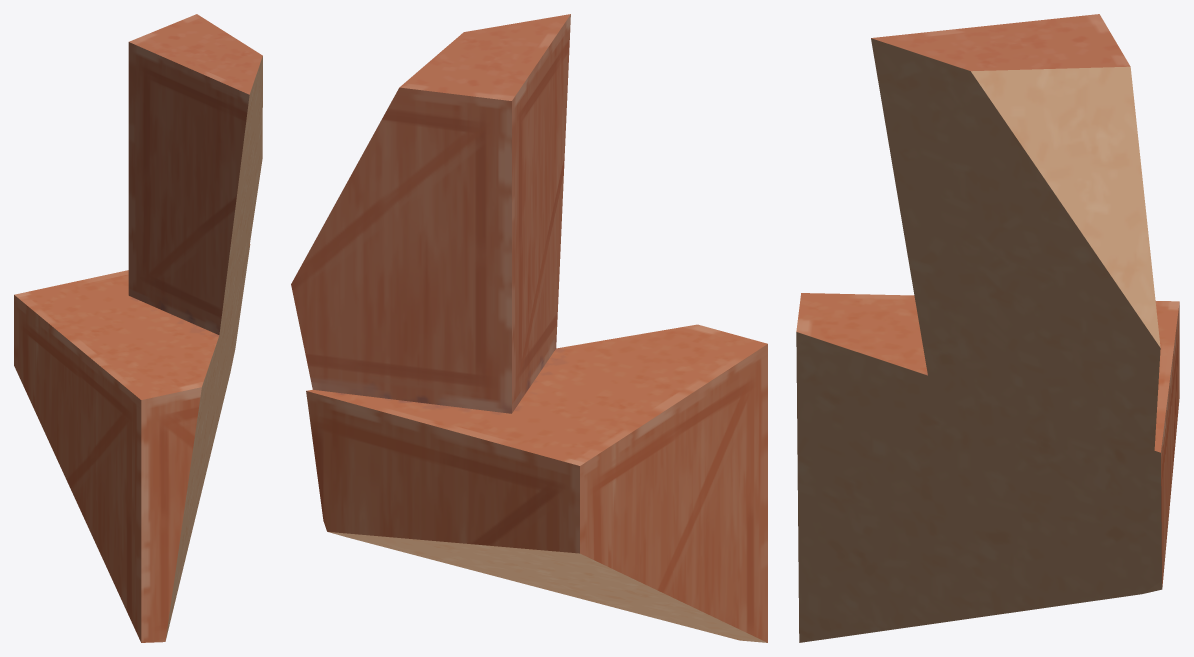
Rendered from stack_crates_s07.fbx.
The picture shows the model from 3 angles, left to right: view 1: azimuth 30°, elevation 25°; view 2: azimuth 150°, elevation 25°; view 3: azimuth 270°, elevation 25°; orthographic projection. The views are drawn at different scales.
Parts seen in each view (by area): view 1: stack_crates_s07; view 2: stack_crates_s07; view 3: stack_crates_s07.
Part boxes in pixels (bbox=[...]): stack_crates_s07: bbox=[14, 14, 262, 642]; stack_crates_s07: bbox=[291, 14, 767, 642]; stack_crates_s07: bbox=[796, 14, 1179, 642].
Bounding box in the file's own units: 3.15 × 5.92 × 3.03.
